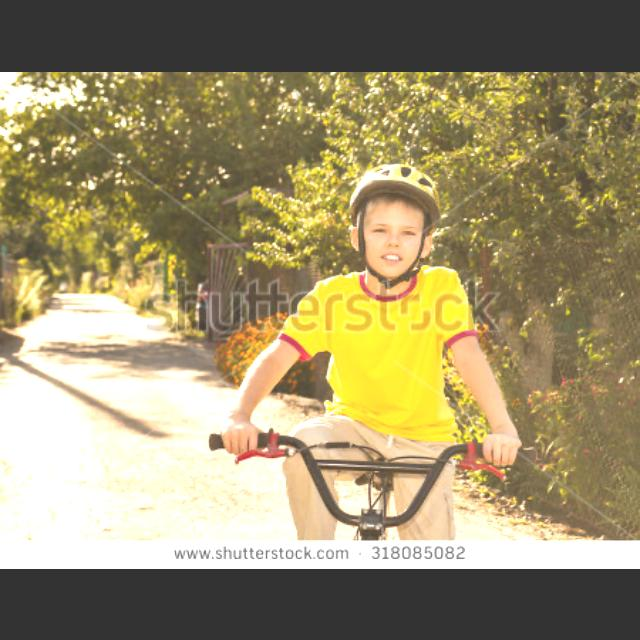With Helmet: (336, 152, 444, 288)
